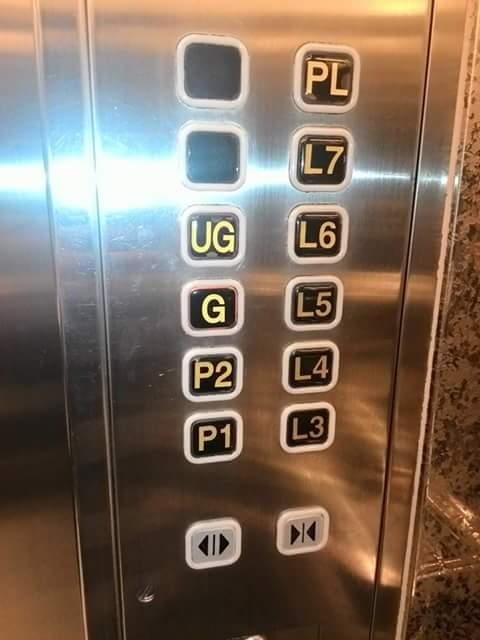G: (179, 276, 246, 339)
L3: (275, 400, 337, 456)
L4: (282, 338, 340, 396)
L5: (282, 275, 344, 333)
L6: (286, 198, 350, 268)
L7: (285, 122, 358, 194)
P1: (180, 409, 245, 466)
P2: (181, 344, 244, 405)
PL: (289, 38, 362, 117)
UG: (180, 203, 246, 269)
close: (275, 503, 329, 556)
empty: (174, 30, 252, 112), (173, 118, 251, 192)
open: (183, 515, 243, 571)
